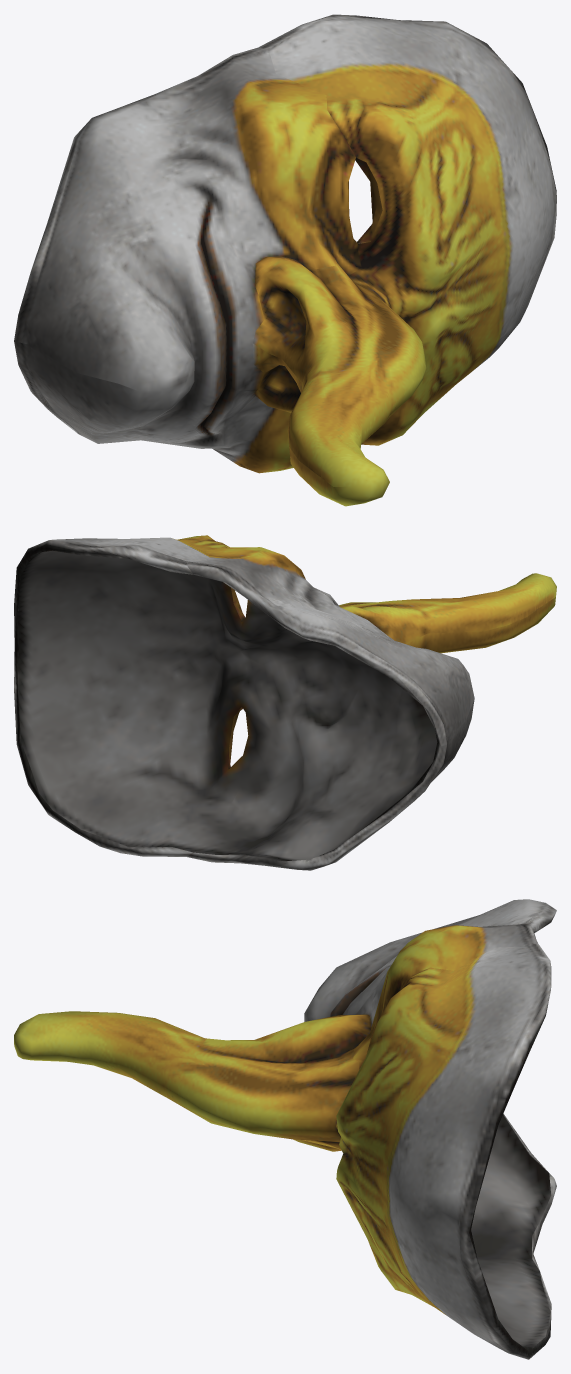
Rendered from F_VenetianMask.fbx.
The picture shows the model from 3 angles, top to bottom: view 1: azimuth 30°, elevation 25°; view 2: azimuth 150°, elevation 25°; view 3: azimuth 270°, elevation 25°; orthographic projection. The views are drawn at different scales.
Parts seen in each view (by area): view 1: Mask7; view 2: Mask7; view 3: Mask7.
Part boxes in pixels (x1,y1,x2,y2): Mask7: (14,14,556,506); Mask7: (14,535,556,870); Mask7: (14,899,556,1359).
Bounding box in the file's own units: 0.1603 × 0.1103 × 0.1506.
